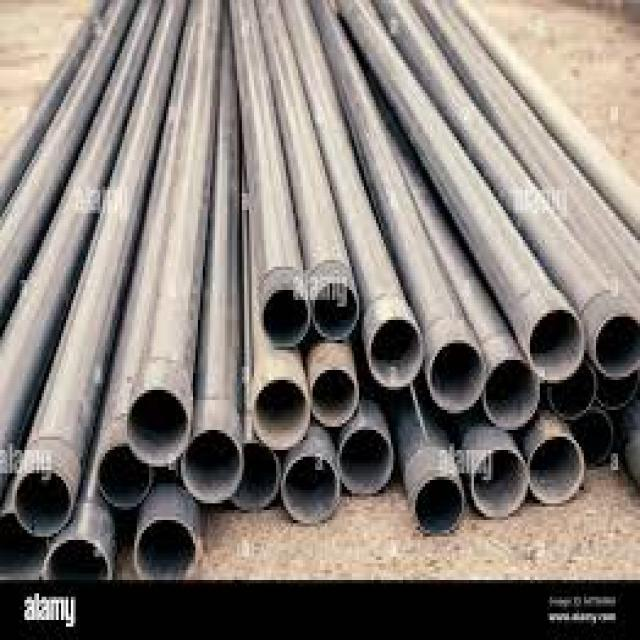pipe: (122, 385, 192, 469), (180, 425, 246, 505), (281, 449, 342, 530), (11, 464, 75, 539), (133, 512, 202, 581), (251, 373, 312, 451), (365, 313, 424, 392), (425, 339, 486, 415), (471, 445, 530, 523), (527, 304, 585, 383), (528, 431, 587, 506), (95, 440, 153, 514), (483, 356, 540, 431), (409, 471, 469, 541), (337, 424, 394, 497), (41, 532, 112, 583), (231, 441, 281, 513), (259, 284, 312, 351), (545, 357, 597, 423), (309, 365, 360, 431), (593, 312, 640, 383), (312, 276, 360, 343), (568, 403, 614, 470)
